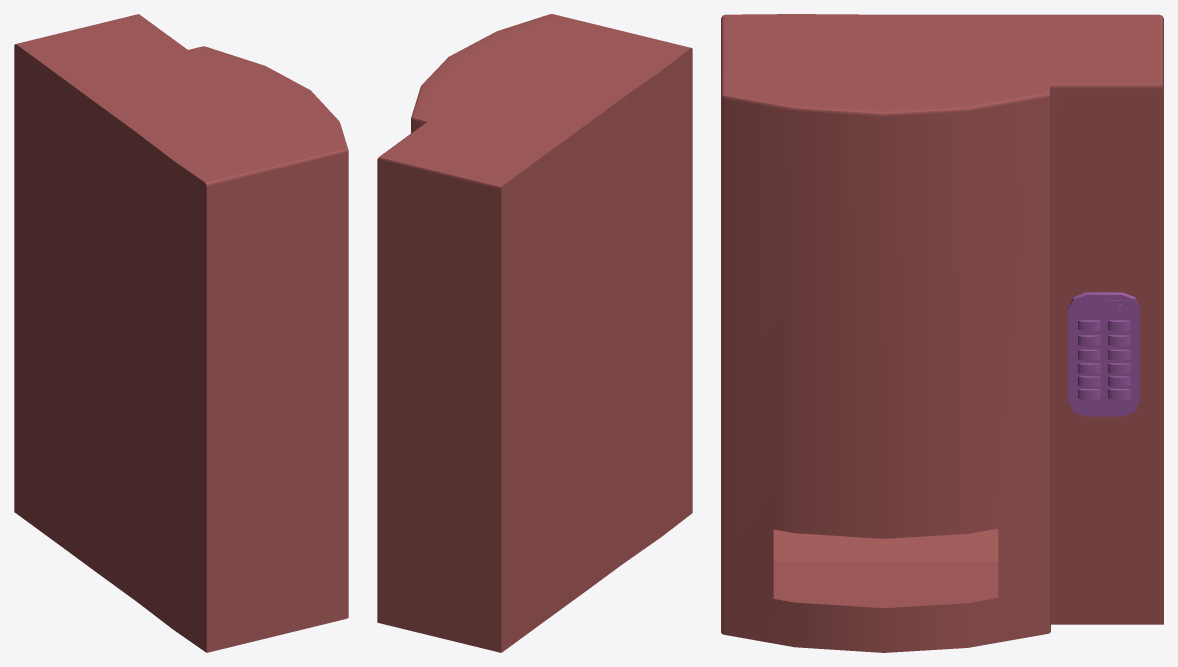
Rendered from Lask_maskin.fbx.
3 views of the same model, side by side, from view 1: azimuth 30°, elevation 25°; view 2: azimuth 150°, elevation 25°; view 3: azimuth 270°, elevation 25° (orthographic). The views are drawn at different scales.
Visible parts, largest first — view 1: pCube3; view 2: pCube3; view 3: pCube3, polySurface8.
Part boxes in pixels (x1,y1,x2,y2): pCube3: (14,14,348,652); pCube3: (377,14,692,652); pCube3: (721,14,1163,652); polySurface8: (1068,292,1140,416).
Size of the model in its own units: 1.12 by 2.83 by 2.11.
